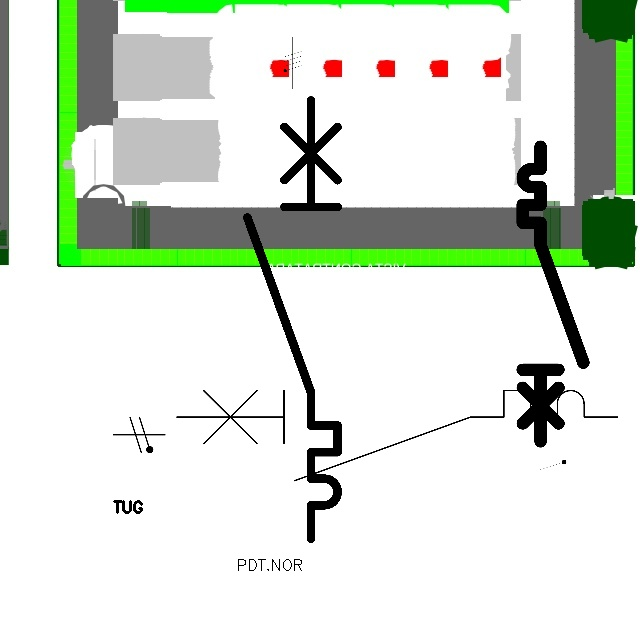interruptor_termomagnetico: (165, 379, 628, 492), (236, 89, 349, 550), (515, 139, 591, 449)
